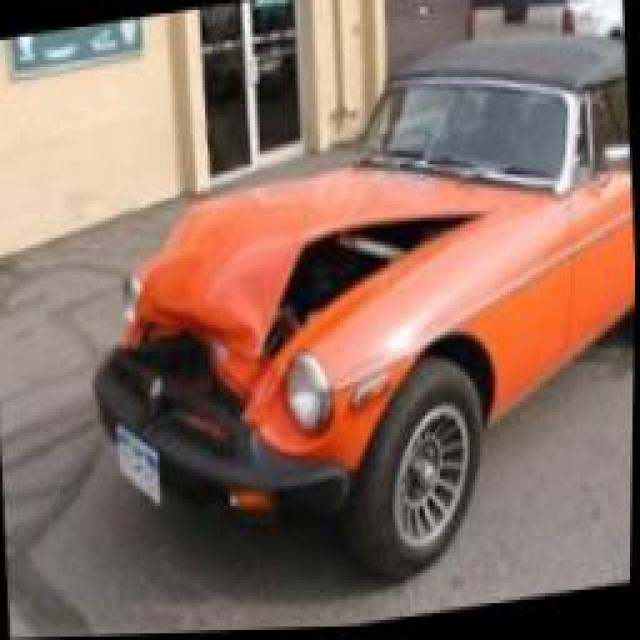replaceable: (107, 224, 273, 469)
